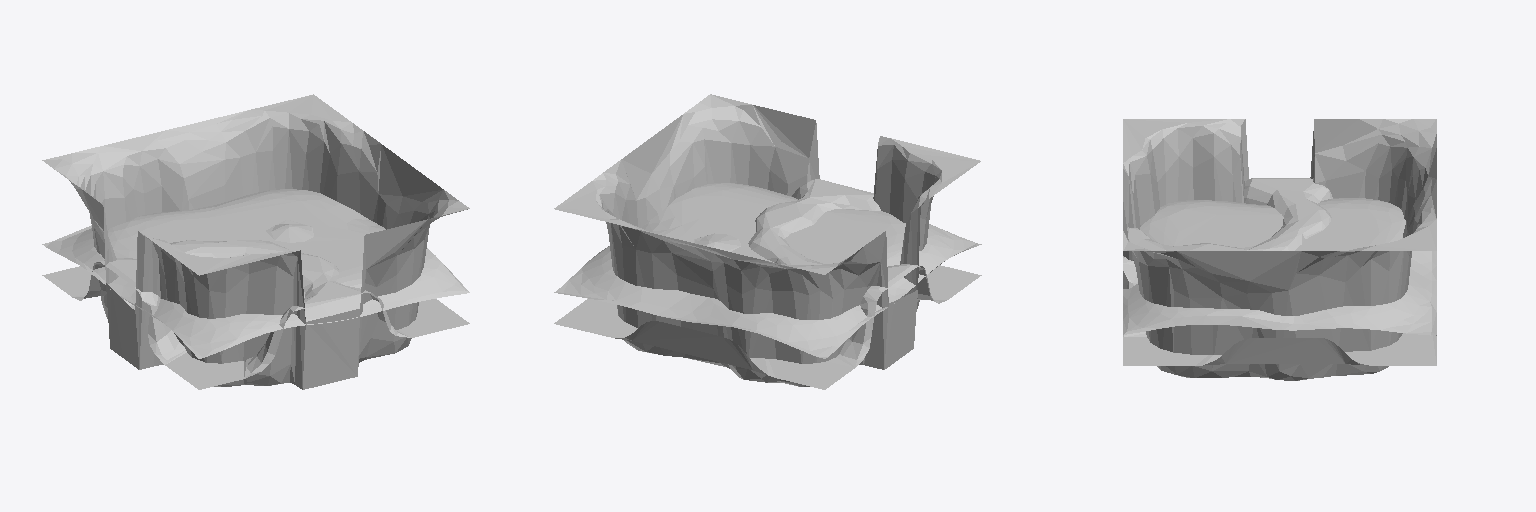
File: L-TILE.obj
3 renders of one model, left to right at view 1: azimuth 30°, elevation 25°; view 2: azimuth 150°, elevation 25°; view 3: azimuth 270°, elevation 25°, orthographic.
Parts seen in each view (by area): view 1: Mountains_Plane, Grass_Plane.001, Road_Plane.002; view 2: Mountains_Plane, Grass_Plane.001, Road_Plane.002; view 3: Mountains_Plane, Grass_Plane.001, Road_Plane.002.
Boxes of the visible parts, x1,y1,x2,y2 form: Mountains_Plane: [42, 94, 469, 389]; Grass_Plane.001: [42, 189, 469, 358]; Road_Plane.002: [42, 240, 469, 389]; Mountains_Plane: [554, 94, 980, 386]; Grass_Plane.001: [554, 183, 981, 358]; Road_Plane.002: [554, 179, 981, 389]; Mountains_Plane: [1123, 119, 1436, 380]; Grass_Plane.001: [1123, 198, 1436, 335]; Road_Plane.002: [1123, 178, 1436, 365].
Bounding box in the file's own units: 40.13 × 20.11 × 40.15.